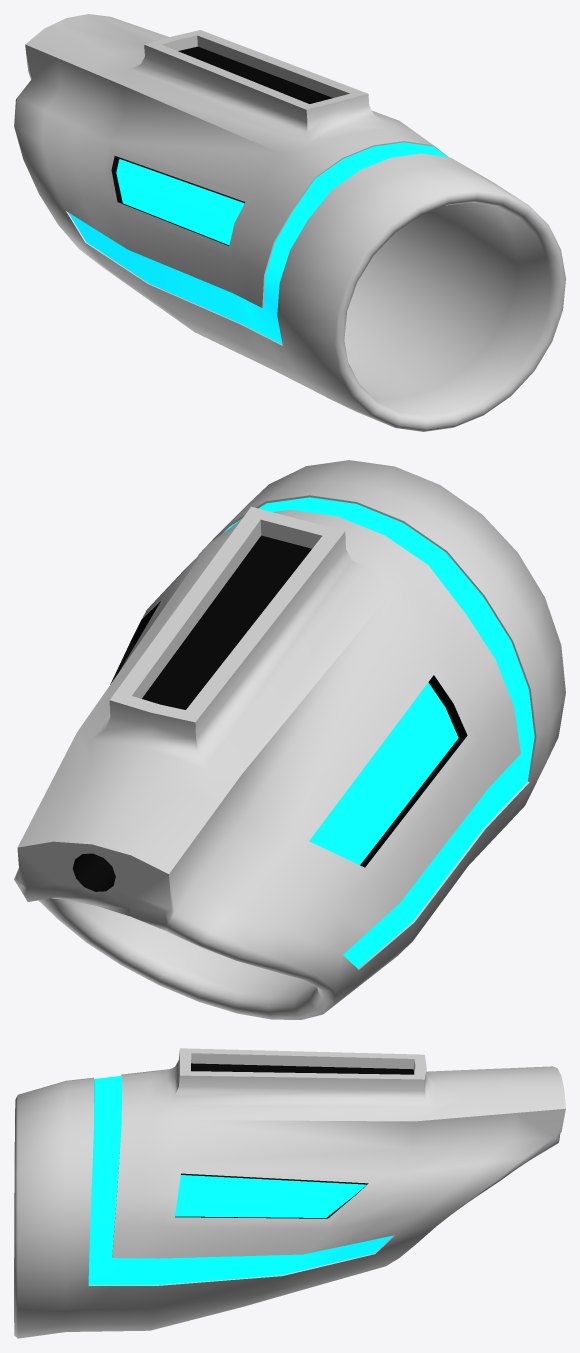
Rendered from testGauntlet.gltf.
3 renders of one model, top to bottom at view 1: azimuth 30°, elevation 25°; view 2: azimuth 150°, elevation 25°; view 3: azimuth 270°, elevation 25°, orthographic. The views are drawn at different scales.
Parts seen in each view (by area): view 1: Circle.003; view 2: Circle.003; view 3: Circle.003.
Part boxes in pixels (bbox=[...]): Circle.003: bbox=[14, 14, 565, 431]; Circle.003: bbox=[14, 460, 565, 1019]; Circle.003: bbox=[14, 1048, 565, 1338].
Bounding box in the file's own units: 0.1733 × 0.1511 × 0.2962.
